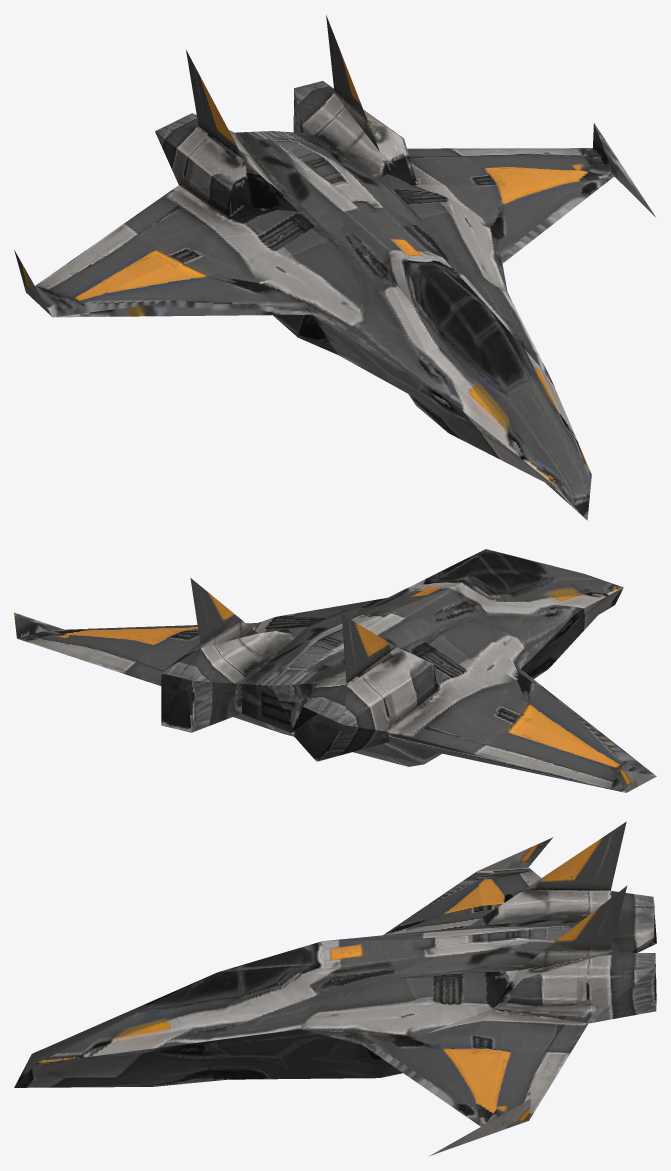
Rendered from hard-150.glb.
3 views of the same model, one above another, from view 1: azimuth 30°, elevation 25°; view 2: azimuth 150°, elevation 25°; view 3: azimuth 270°, elevation 25° (orthographic). The views are drawn at different scales.
Visible parts, largest first — view 1: Low; view 2: Low; view 3: Low.
Boxes of the visible parts, x1,y1,x2,y2 form: Low: (14, 15, 655, 520); Low: (14, 549, 656, 792); Low: (14, 821, 656, 1156).
Bounding box in the file's own units: 0.9425 × 0.3889 × 0.9721.
Materials: 1 (1 with a texture image).
